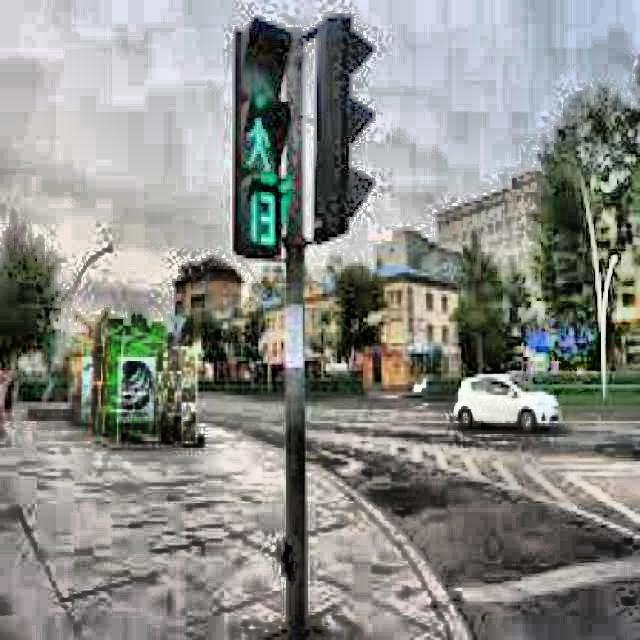semaforo pedestre: (178, 8, 332, 308)
